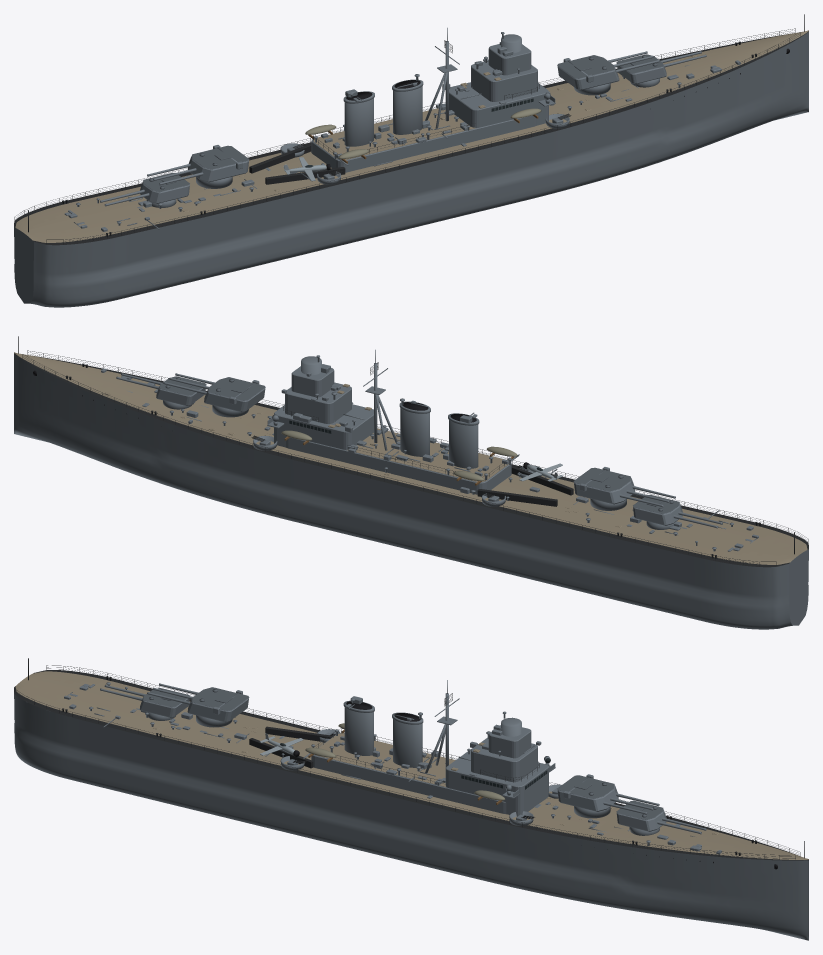
File: pensacola.glb
3 renders of one model, top to bottom at view 1: azimuth 30°, elevation 25°; view 2: azimuth 150°, elevation 25°; view 3: azimuth 330°, elevation 25°, orthographic.
Visible parts, largest first — view 1: pensacola, T_2_malla, T_1_malla, T_3_malla, T_0_malla; view 2: pensacola, T_2_malla, T_1_malla, T_3_malla, T_0_malla; view 3: pensacola, T_1_malla, T_2_malla, T_0_malla, T_3_malla.
Part boxes in pixels (<box>): pensacola: <box>14,14,808,307</box>; T_2_malla: <box>187,145,249,182</box>; T_1_malla: <box>557,55,618,90</box>; T_3_malla: <box>140,172,189,203</box>; T_0_malla: <box>616,54,666,83</box>; pensacola: <box>14,336,808,629</box>; T_2_malla: <box>573,467,635,504</box>; T_1_malla: <box>204,377,265,412</box>; T_3_malla: <box>633,494,682,525</box>; T_0_malla: <box>156,376,206,405</box>; pensacola: <box>14,658,808,940</box>; T_1_malla: <box>557,774,618,811</box>; T_2_malla: <box>187,687,249,722</box>; T_0_malla: <box>616,800,666,831</box>; T_3_malla: <box>140,688,189,717</box>.
Bounding box in the file's own units: 178 × 37.5 × 20.77.
